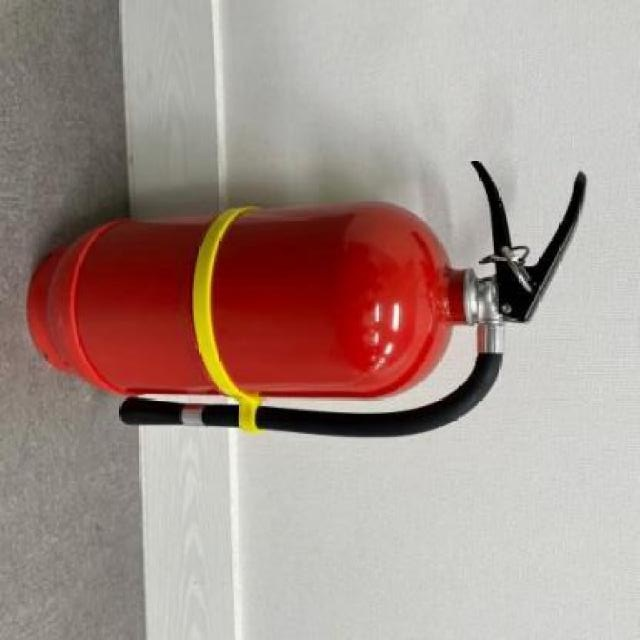fire extinguisher: (26, 161, 588, 439)
